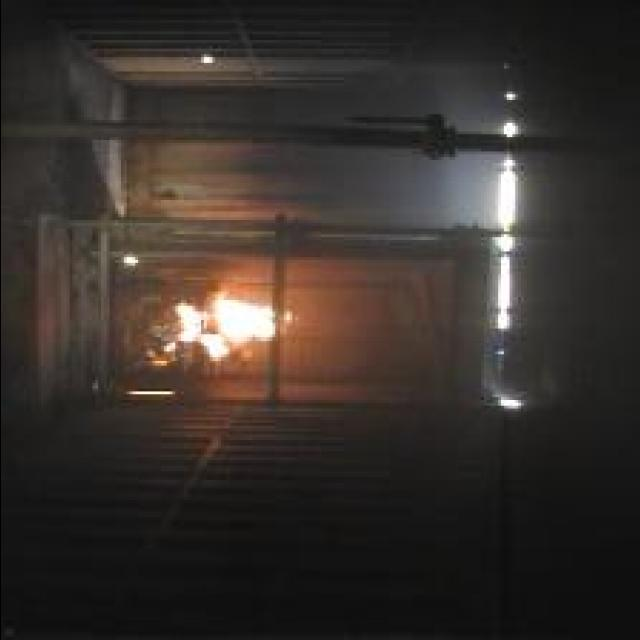Fire: (174, 298, 297, 358)
